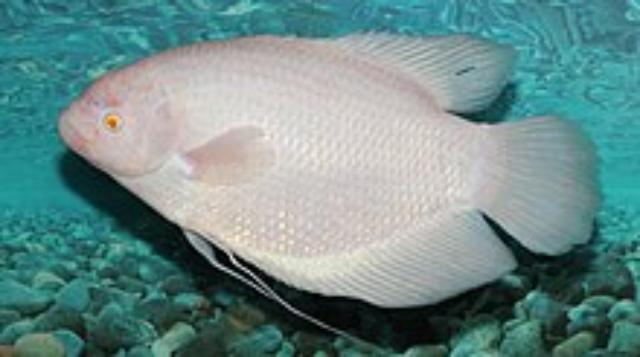Mulut: (30, 88, 100, 178)
Sirip Dada: (167, 110, 287, 198)
Sirip Ekor: (472, 106, 628, 266)
Sirip Punggung: (319, 22, 531, 122)
